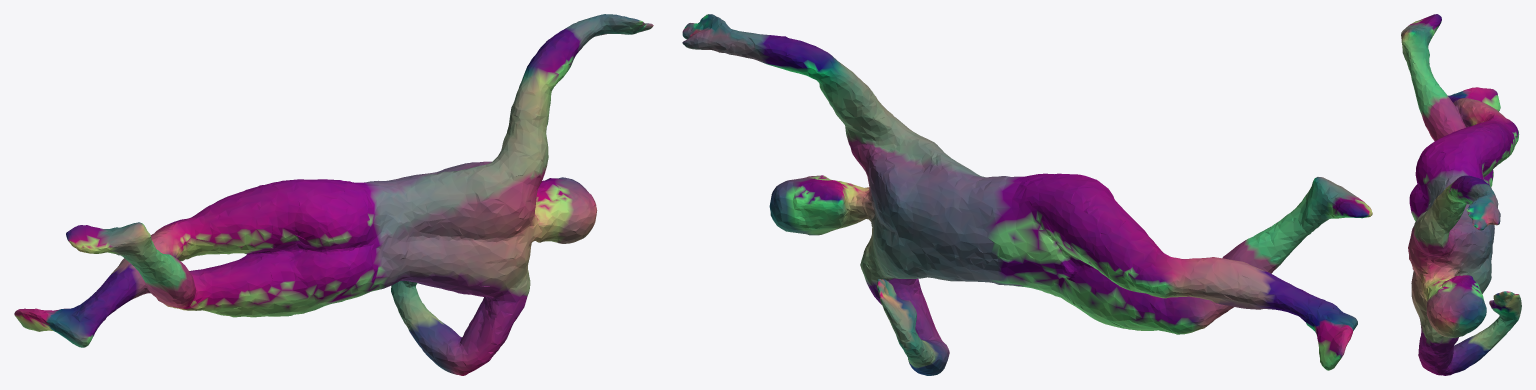
Rendered from man-7.off.obj.
3 renders of one model, left to right at view 1: azimuth 30°, elevation 25°; view 2: azimuth 150°, elevation 25°; view 3: azimuth 270°, elevation 25°, orthographic. The views are drawn at different scales.
Size of the model in its own units: 1.67 by 0.763 by 0.3354.
